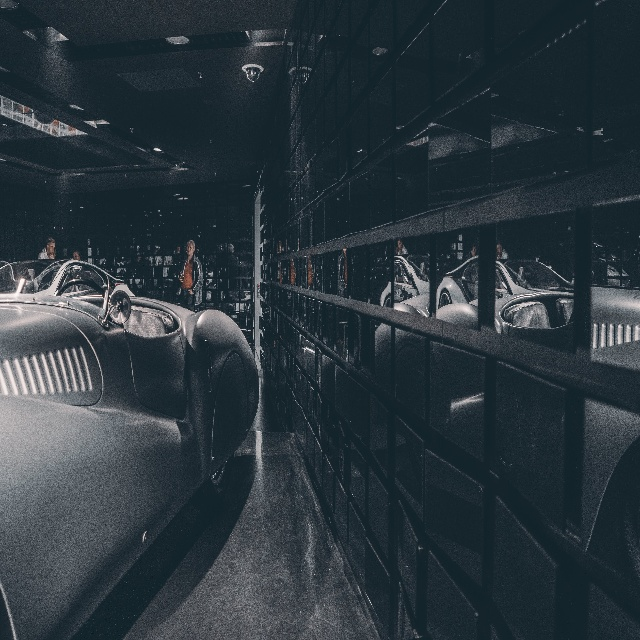Sin_guantes: (179, 274, 184, 282), (49, 253, 54, 260), (188, 288, 193, 294)
